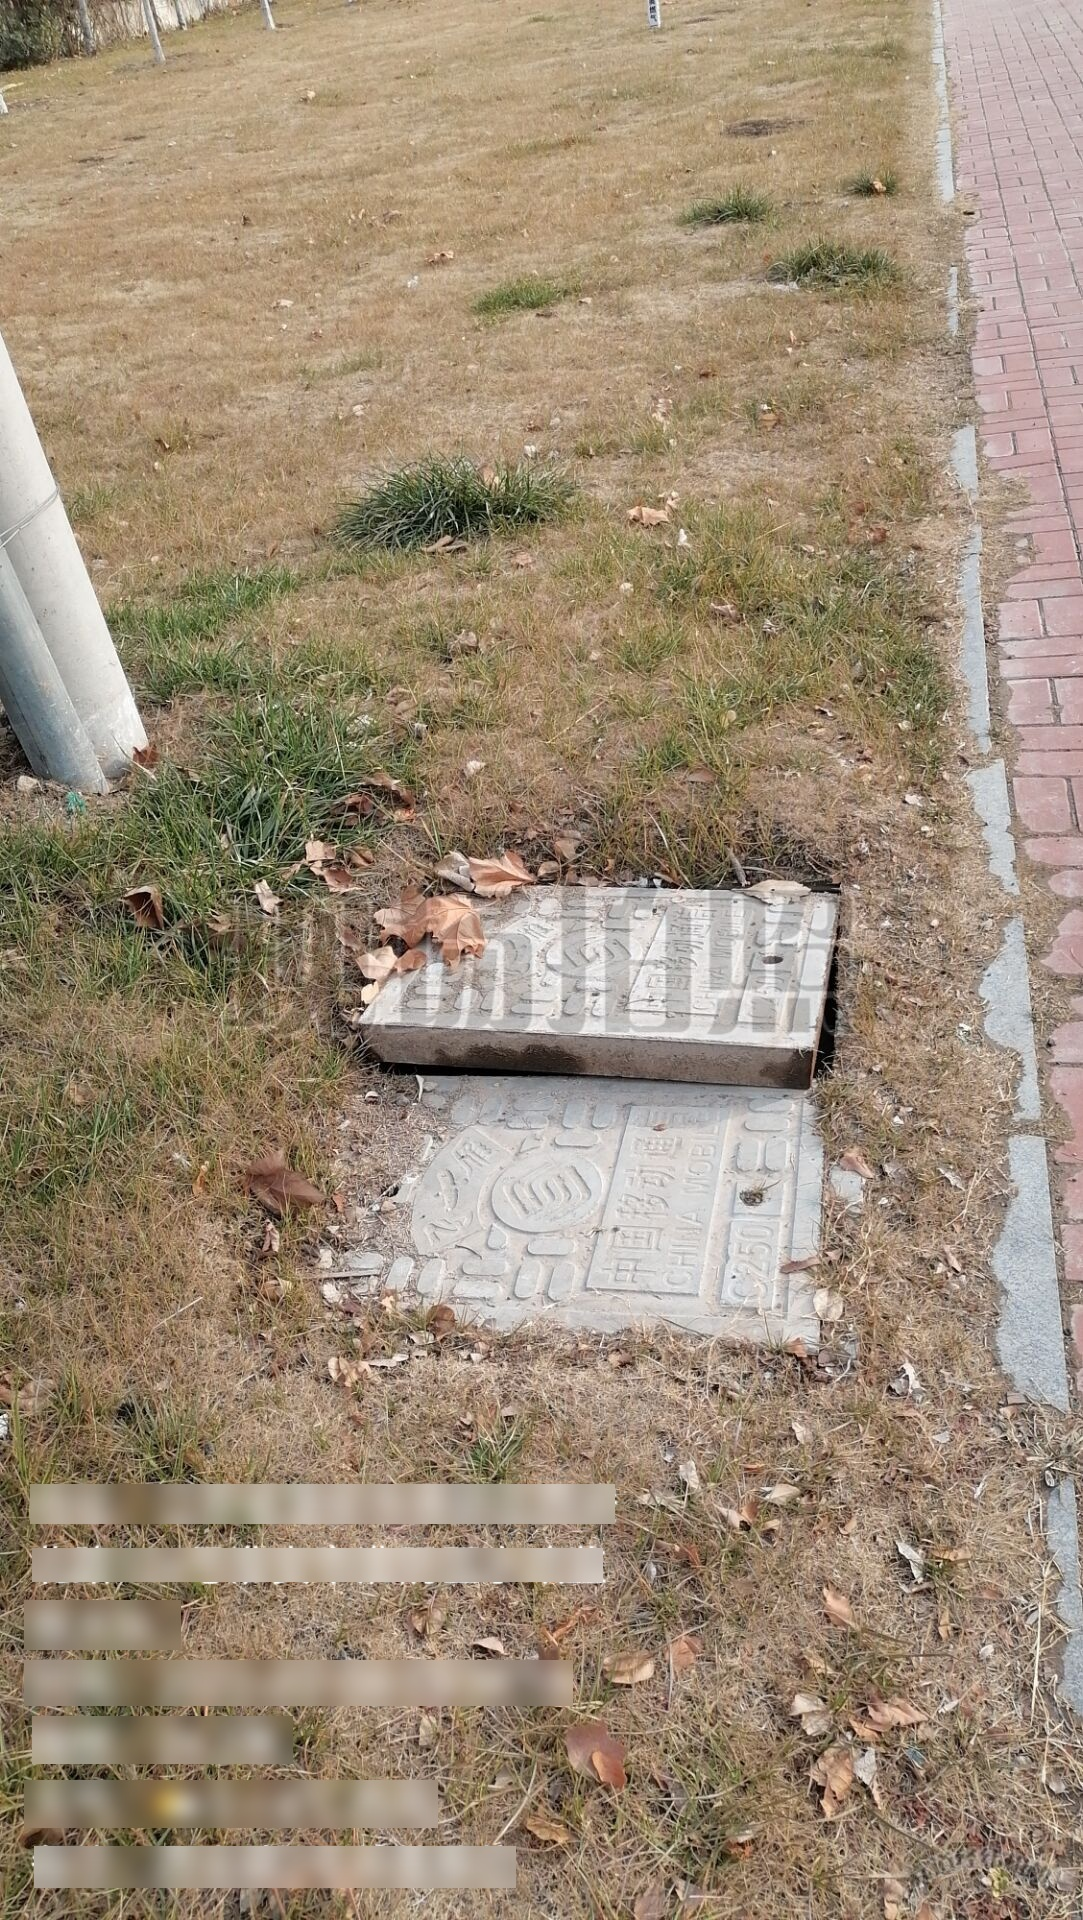uncovered: (299, 872, 847, 1344)
